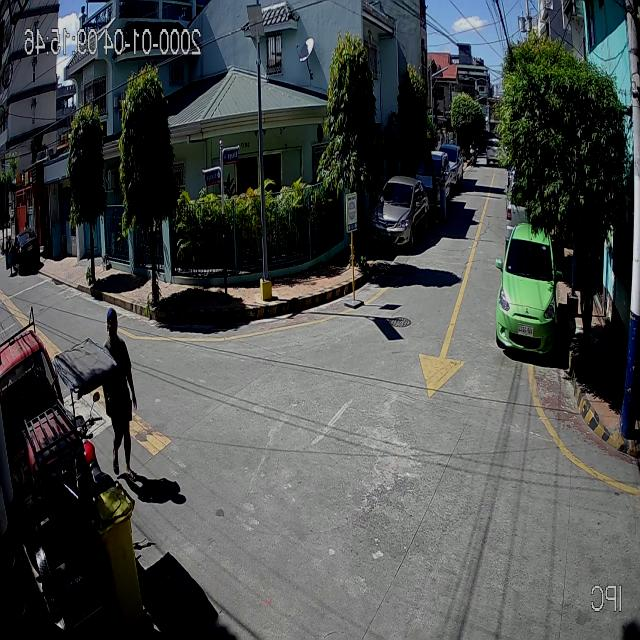walking: (101, 307, 137, 481)
